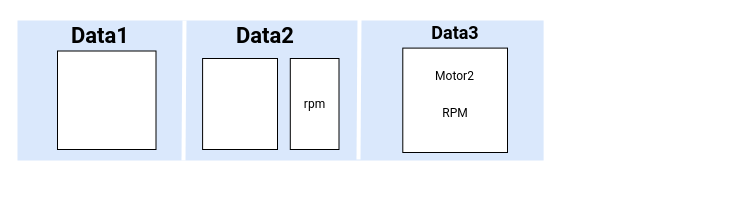
The diagram is 738 pixels wide and 221 high, and some of its shapes have lost their labels. The centre of each missing label's shape, as x and y in pixels:
motor0: the point at 106,100
motor1: the point at 240,104
